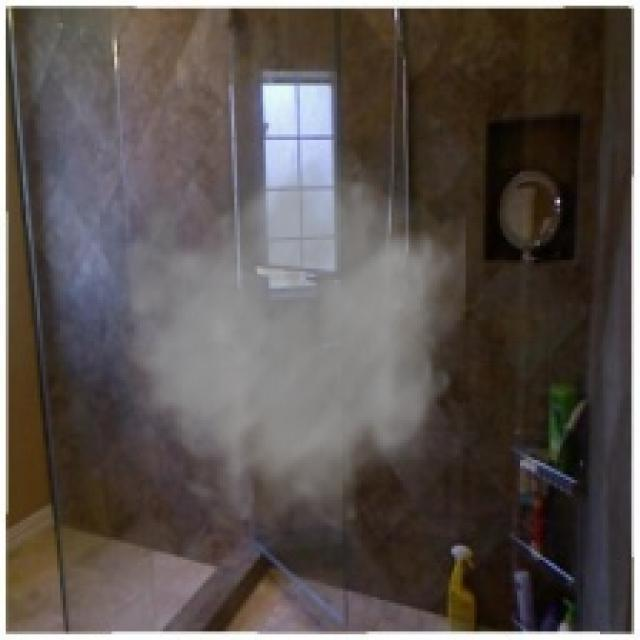Smoke: (86, 148, 466, 538)
